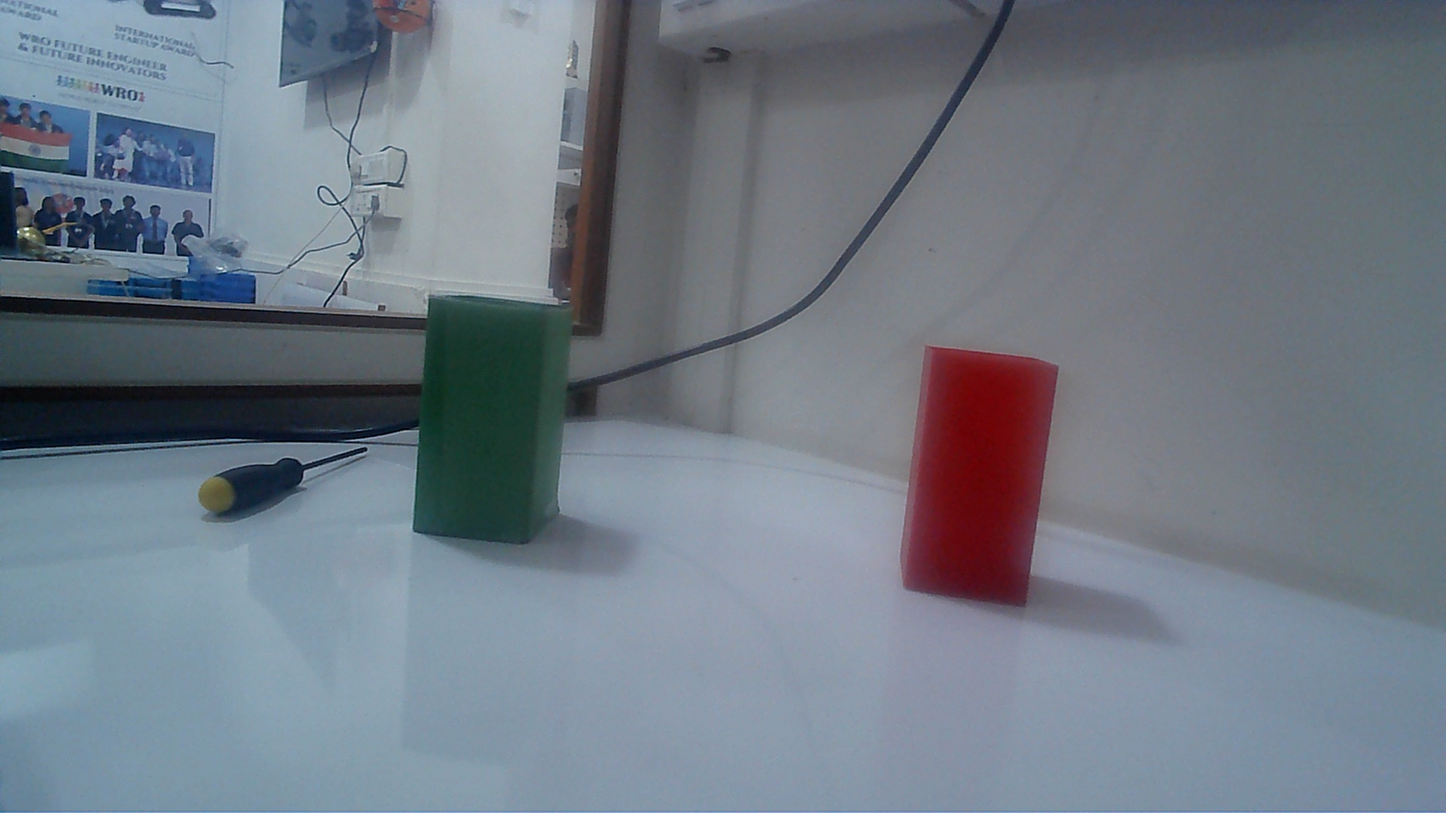red: (898, 352, 1059, 600)
